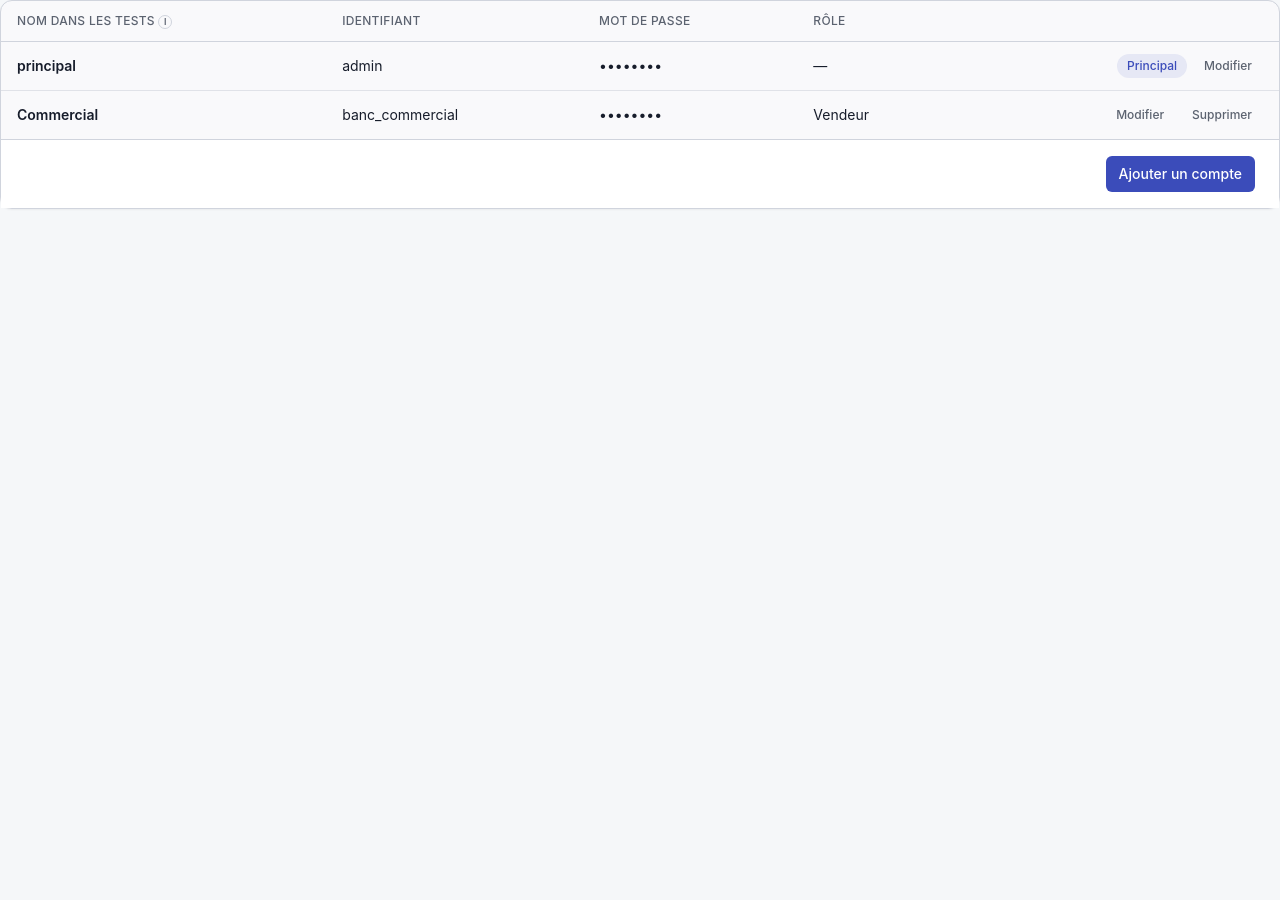
Scenario: Paramètres de test — onglet Comptes, compte principal › s'ouvre sur l'identifiant enregistré, secrets vides
This screenshot has width=1280, height=900.
Click the button with test id "principal-modifier": (1228, 66) [1193,50,1263,82]
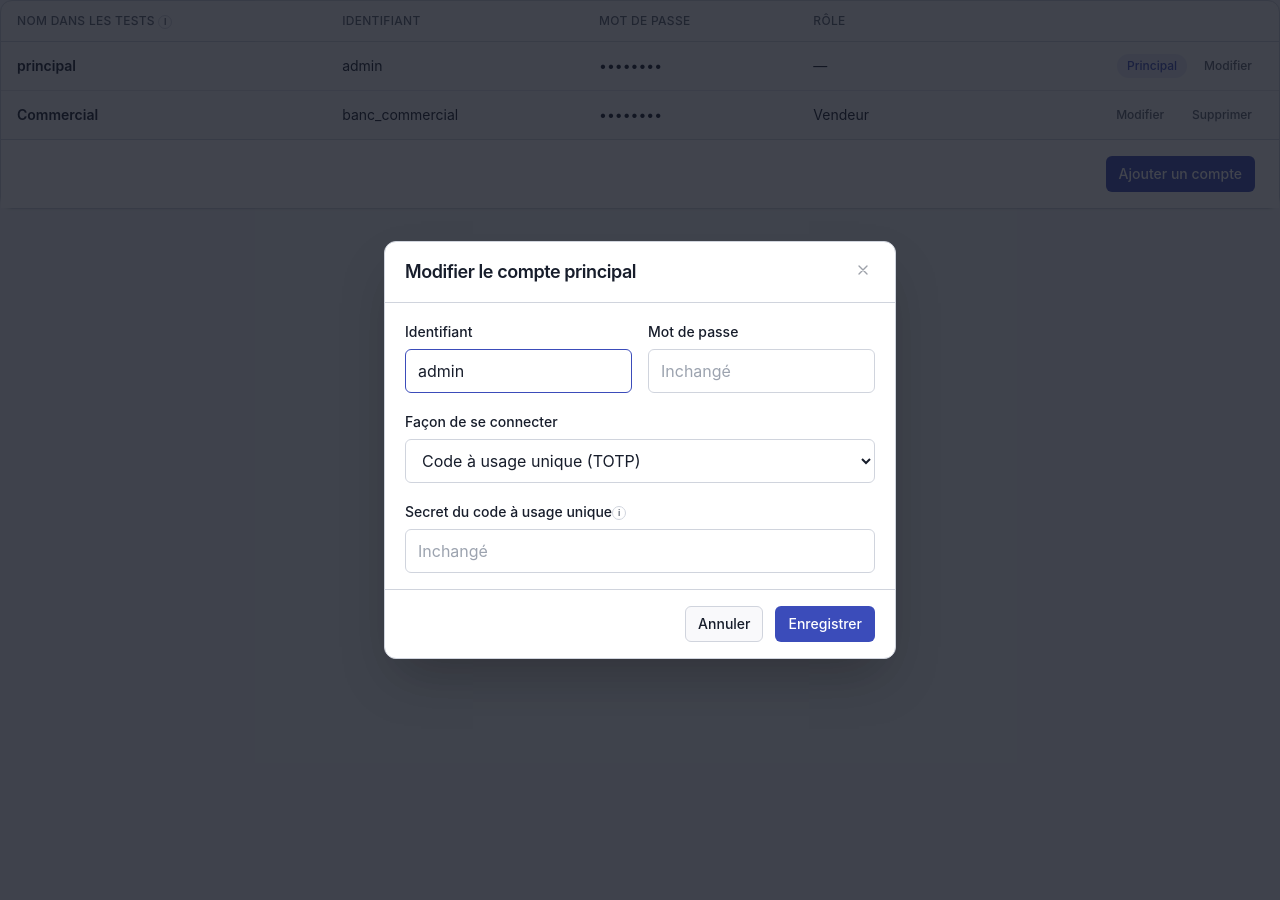
Now the field with test id "principal-identifiant" holds "admin", box [405,349,632,393]
Now the password field with test id "principal-mot-de-passe" is empty, box [648,349,875,393]
Now the dropdown with test id "auth-strategie" shows "Code à usage unique (TOTP)", box [405,439,875,483]
